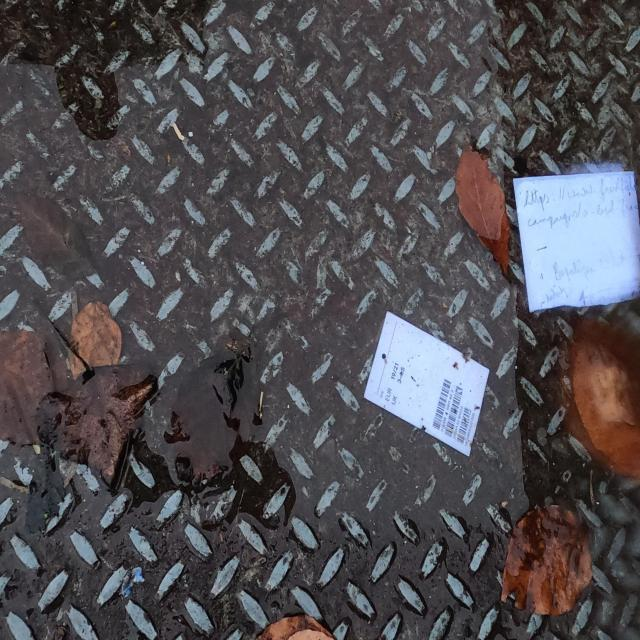Paper: (361, 308, 491, 461)
